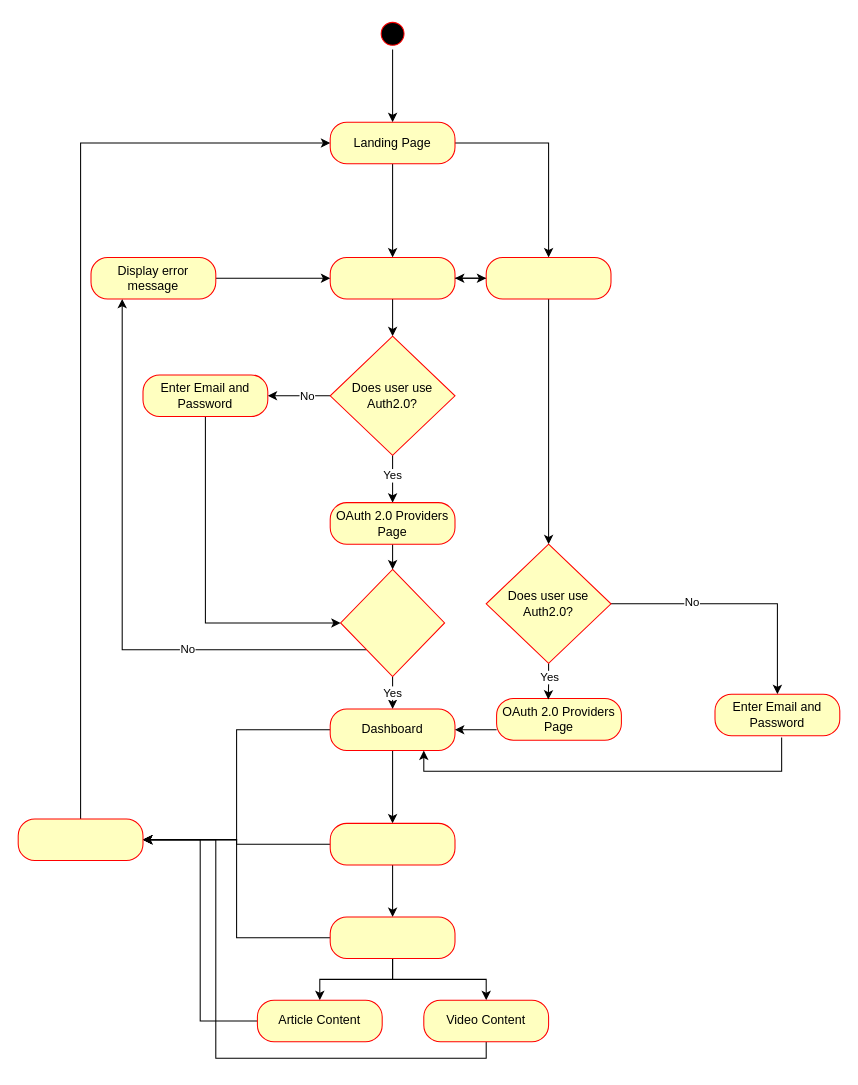
Image size: 858x1085. Some labels were removed from this diagram. The box of each missing label's shape, as (x1, y1, x2, y2) in pixels:
All Courses: (329, 822, 455, 865)
All Units inside a Course: (329, 916, 455, 959)
AreCredentials valid: (340, 568, 445, 677)
Login: (329, 256, 455, 299)
Logout: (17, 818, 143, 861)
Signup: (485, 256, 611, 299)
